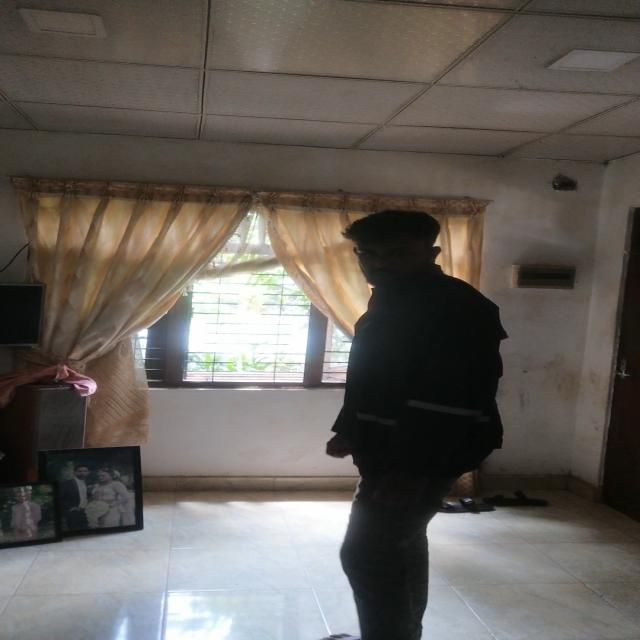Jacket_Wearer: (329, 275, 511, 478)
Person: (323, 207, 515, 640)
